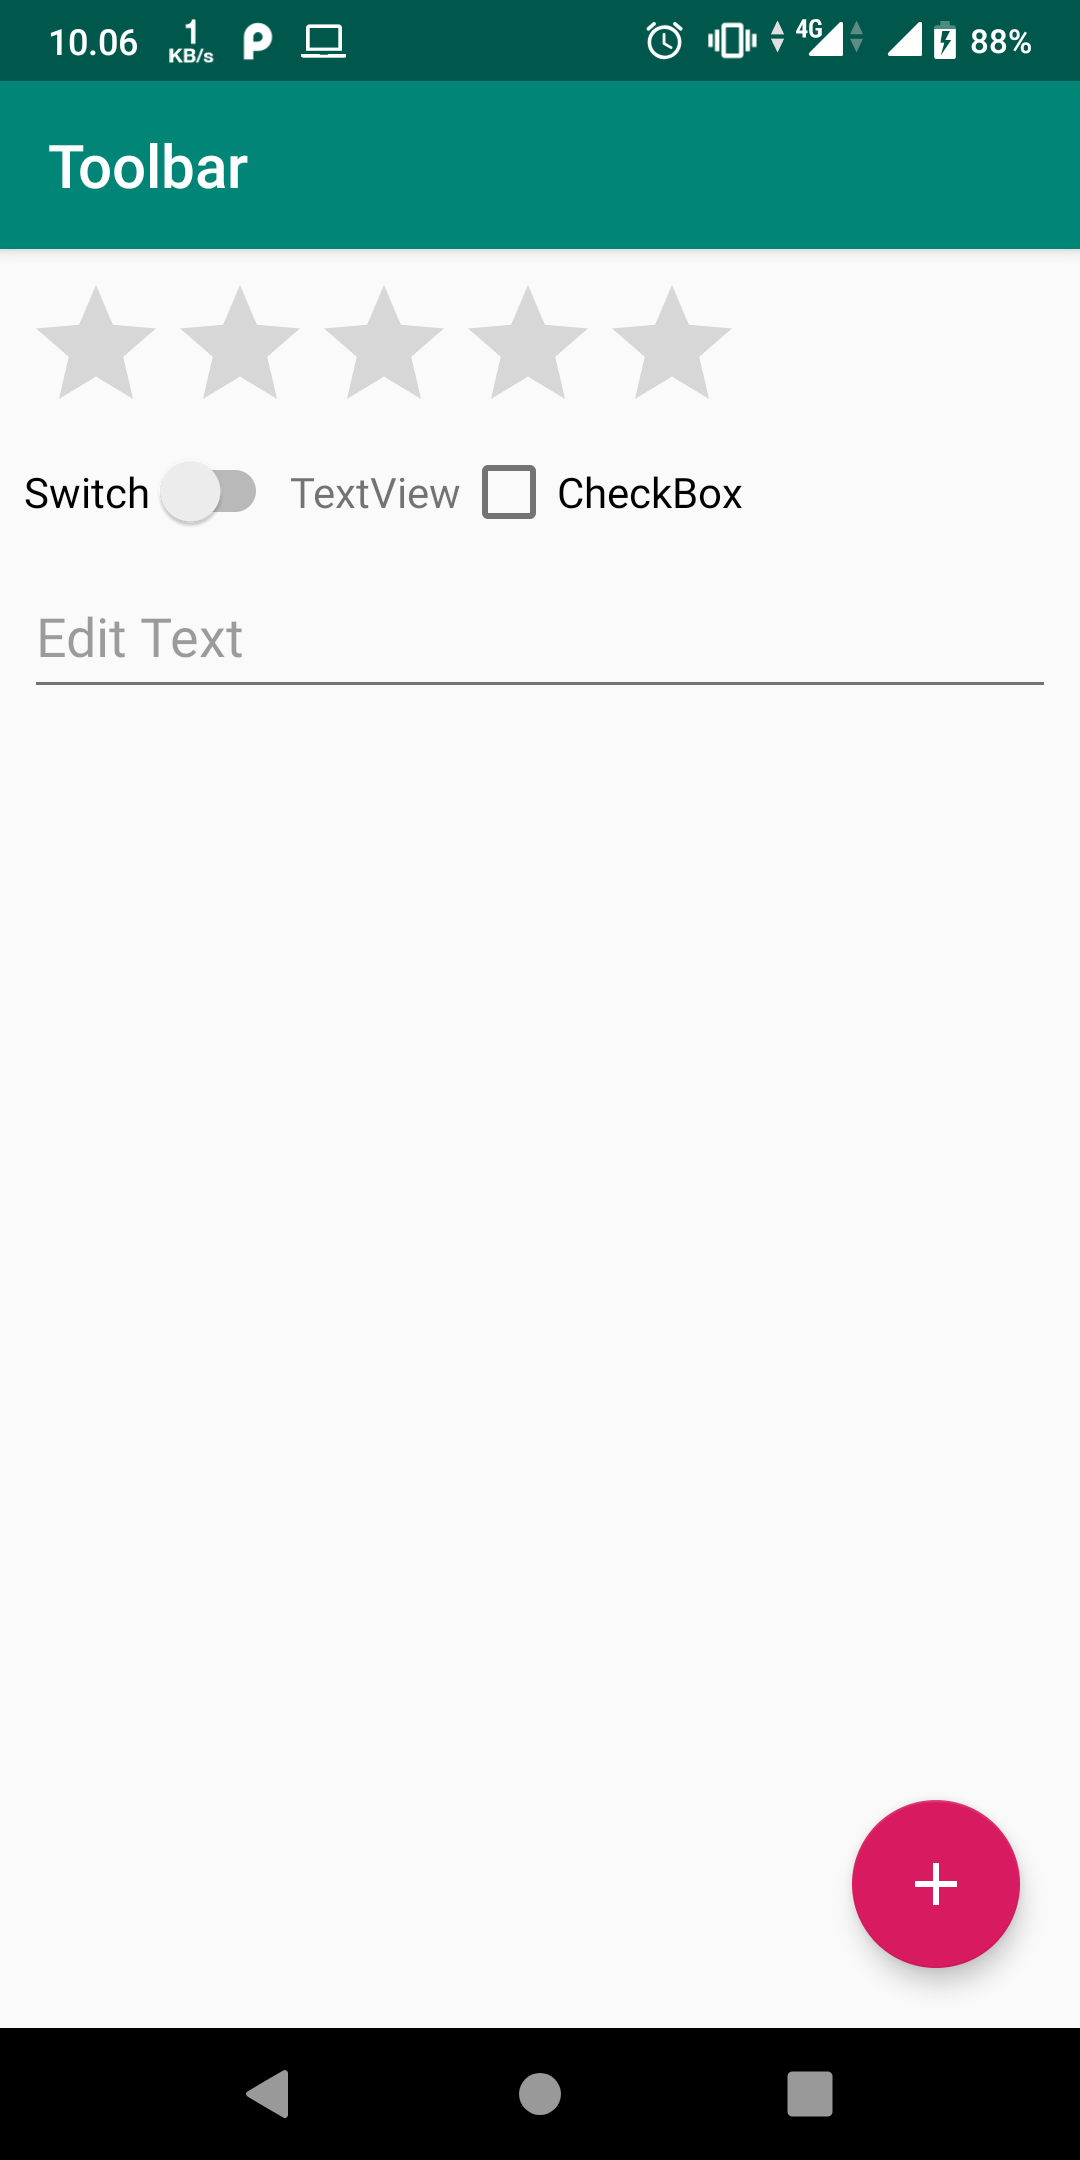checkBox: (473, 464, 758, 528)
editText: (22, 599, 1054, 715)
floatingButton: (854, 1799, 1028, 1973)
ratingBar: (34, 282, 731, 406)
switch: (15, 461, 270, 528)
textView: (293, 461, 457, 528)
toolbar: (3, 80, 1080, 253)
